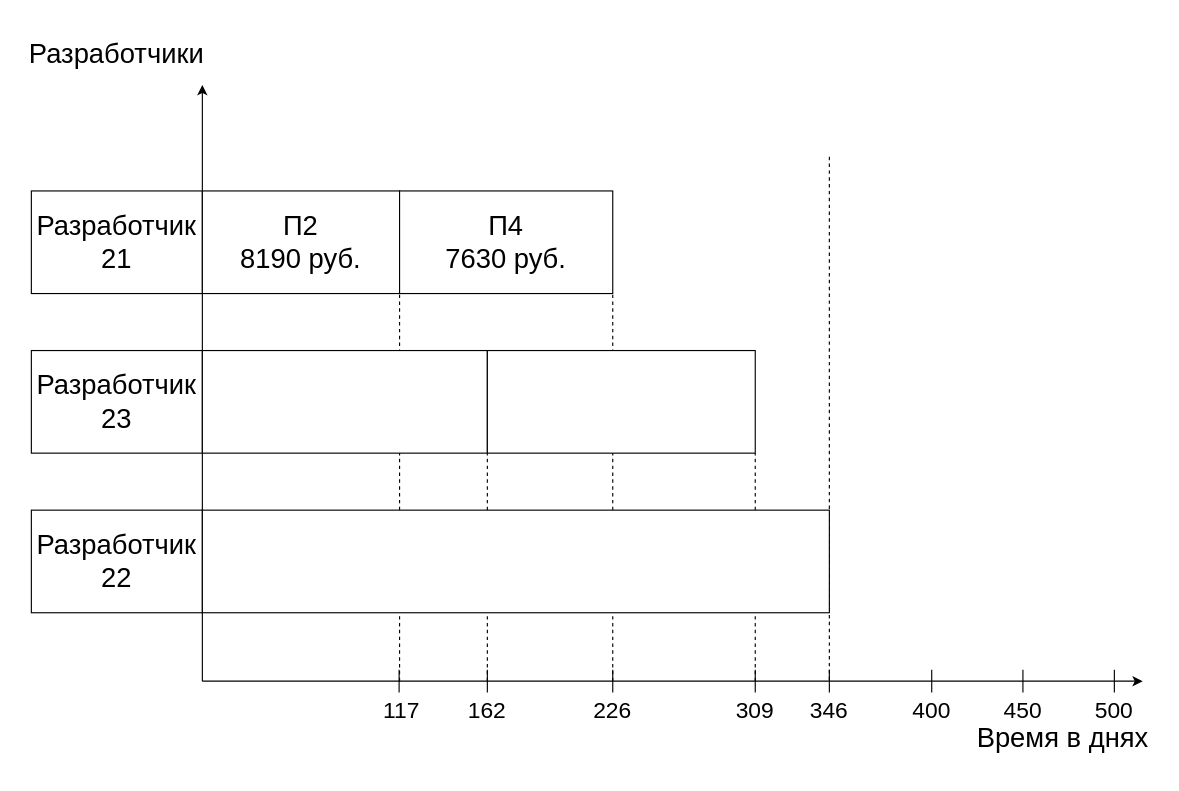
The diagram is 1179 pixels wide and 791 high, and some of its shapes have lost their labels. Each missing label, with the box of its shape:
П1 7290 руб.: (201, 349, 487, 453)
П3 6615 руб.: (486, 349, 755, 453)
П5 19030 руб.: (201, 509, 829, 613)
